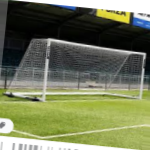goals: (4, 38, 147, 102)
